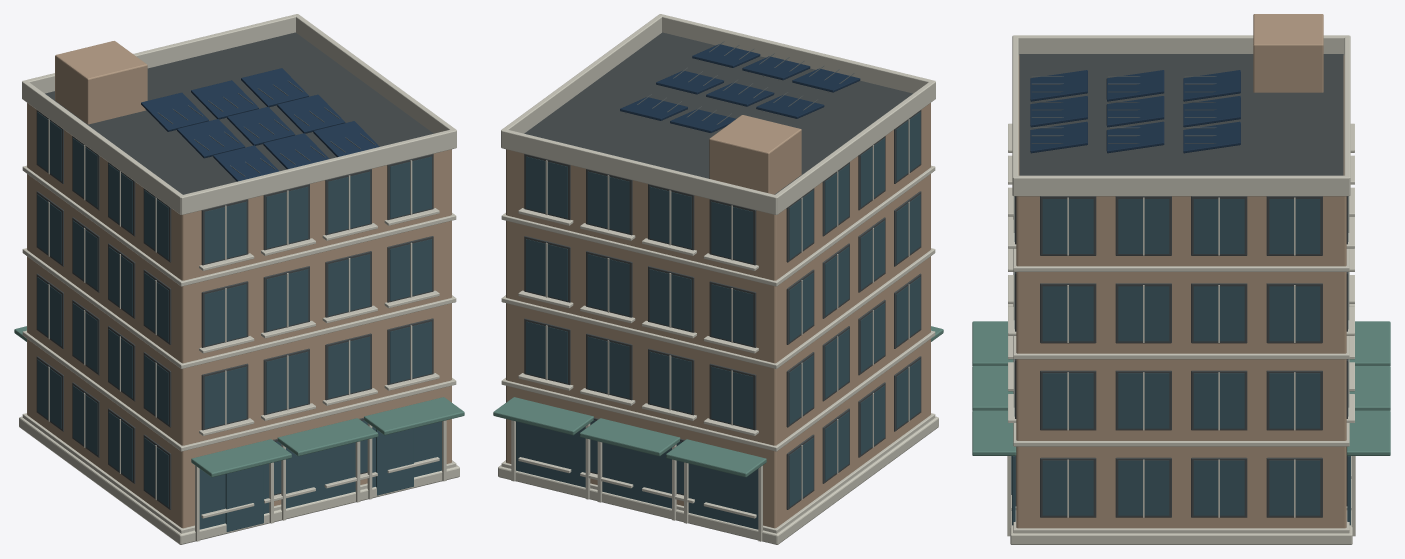
File: shops_midrise.glb
3 renders of one model, left to right at view 1: azimuth 30°, elevation 25°; view 2: azimuth 150°, elevation 25°; view 3: azimuth 270°, elevation 25°, orthographic. The views are drawn at different scales.
Visible parts, largest first — view 1: WindowGlassGeometry, BuildingWallGeometry, ArchitecturalTrimGeometry, RoofAndFrameGeometry, SolarCellsGeometry, AwningGeometry, RailMetalGeometry; view 2: BuildingWallGeometry, WindowGlassGeometry, ArchitecturalTrimGeometry, RoofAndFrameGeometry, SolarCellsGeometry, AwningGeometry, RailMetalGeometry; view 3: BuildingWallGeometry, WindowGlassGeometry, RoofAndFrameGeometry, ArchitecturalTrimGeometry, SolarCellsGeometry, AwningGeometry, RailMetalGeometry.
Boxes of the visible parts, <box> form: WindowGlassGeometry: <box>37,112,441,531</box>; BuildingWallGeometry: <box>27,41,451,528</box>; ArchitecturalTrimGeometry: <box>19,14,459,544</box>; RoofAndFrameGeometry: <box>36,32,433,509</box>; SolarCellsGeometry: <box>141,68,379,181</box>; AwningGeometry: <box>14,326,464,477</box>; RailMetalGeometry: <box>158,81,375,176</box>; BuildingWallGeometry: <box>506,103,930,528</box>; WindowGlassGeometry: <box>516,112,920,529</box>; ArchitecturalTrimGeometry: <box>498,14,938,544</box>; RoofAndFrameGeometry: <box>524,32,921,509</box>; SolarCellsGeometry: <box>620,44,860,132</box>; AwningGeometry: <box>493,326,943,477</box>; RailMetalGeometry: <box>625,41,854,132</box>; BuildingWallGeometry: <box>1016,14,1346,528</box>; WindowGlassGeometry: <box>1011,196,1350,525</box>; RoofAndFrameGeometry: <box>1015,54,1347,517</box>; ArchitecturalTrimGeometry: <box>1007,35,1355,544</box>; SolarCellsGeometry: <box>1030,70,1240,153</box>; AwningGeometry: <box>972,321,1390,455</box>; RailMetalGeometry: <box>1031,76,1216,143</box>.
Size of the model in its own units: 11.2 by 14.4 by 13.68.
